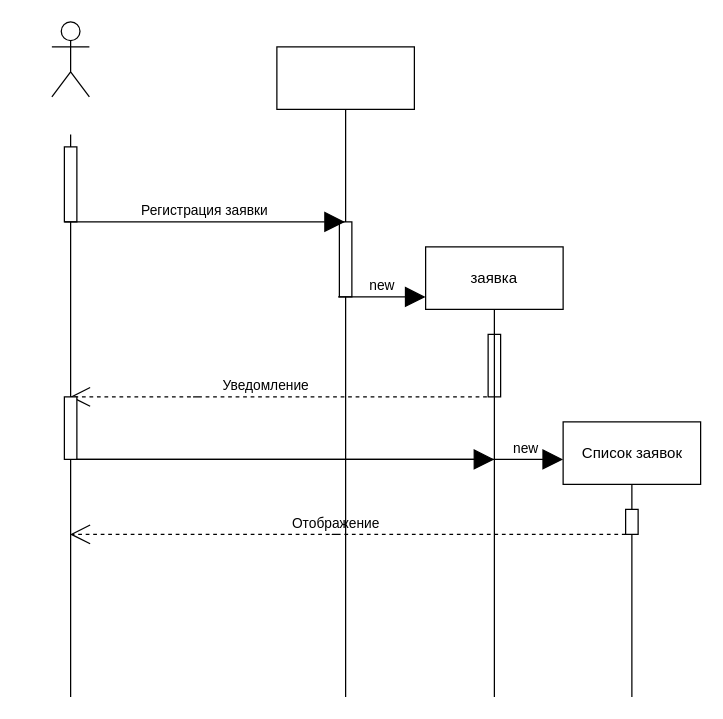
Some shapes in this 723 by 719 pixel diagram are drawn without their labels. Here are the shapes that lost their labels. From the top down, the centre of each, then its label:
At (x=70, y=59): "Пользователь".
At (x=345, y=77): "Форма регистрации заявки".
